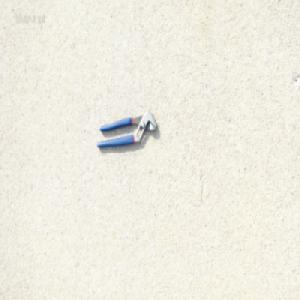Pliers: (95, 110, 157, 150)
